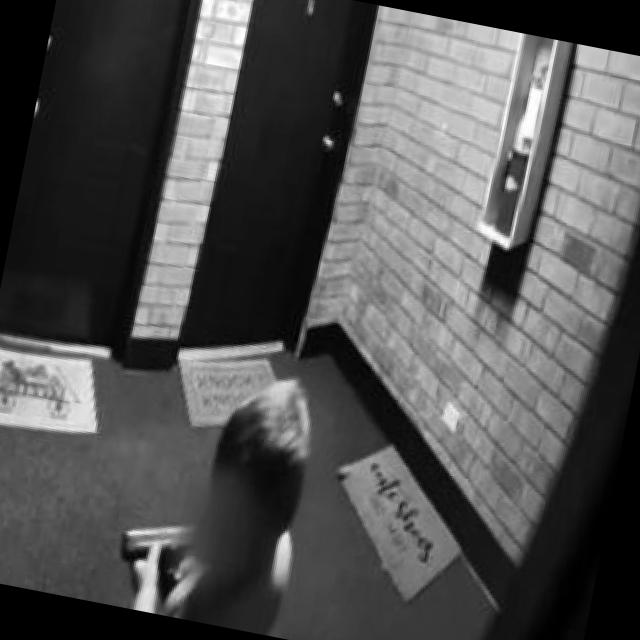Guns: (104, 472, 235, 619)
